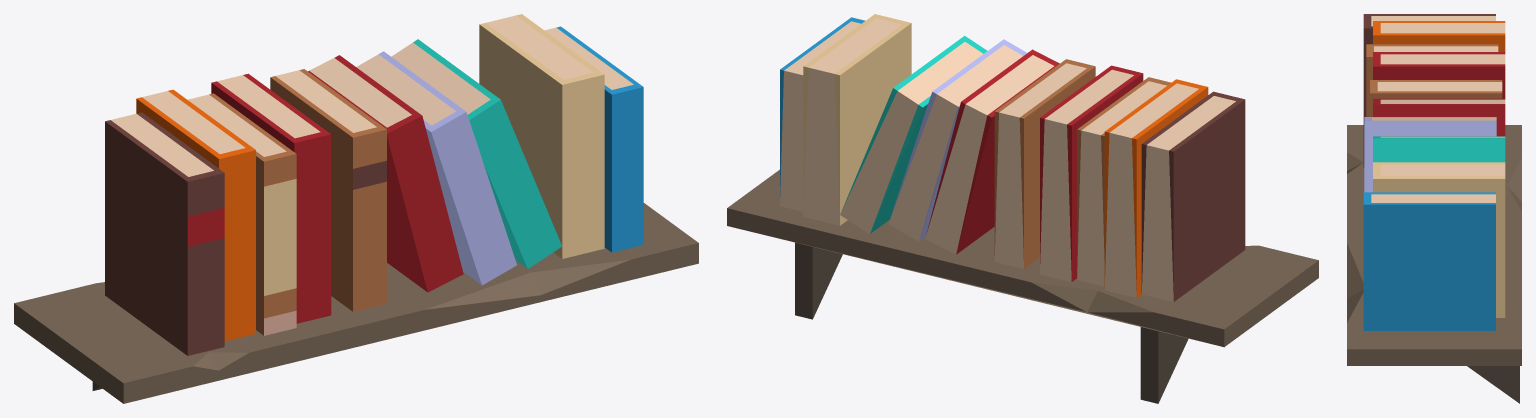
Rendered from Floating Bookshelf.FBX.
3 views of the same model, side by side, from view 1: azimuth 30°, elevation 25°; view 2: azimuth 150°, elevation 25°; view 3: azimuth 270°, elevation 25° (orthographic). The views are drawn at different scales.
Visible parts, largest first — view 1: Bookshelf_01; view 2: Bookshelf_01; view 3: Bookshelf_01.
Part boxes in pixels (x1,y1,x2,y2): Bookshelf_01: (14,14,698,403); Bookshelf_01: (727,14,1318,403); Bookshelf_01: (1347,14,1521,403).
Bounding box in the file's own units: 115 × 55.62 × 37.92.
